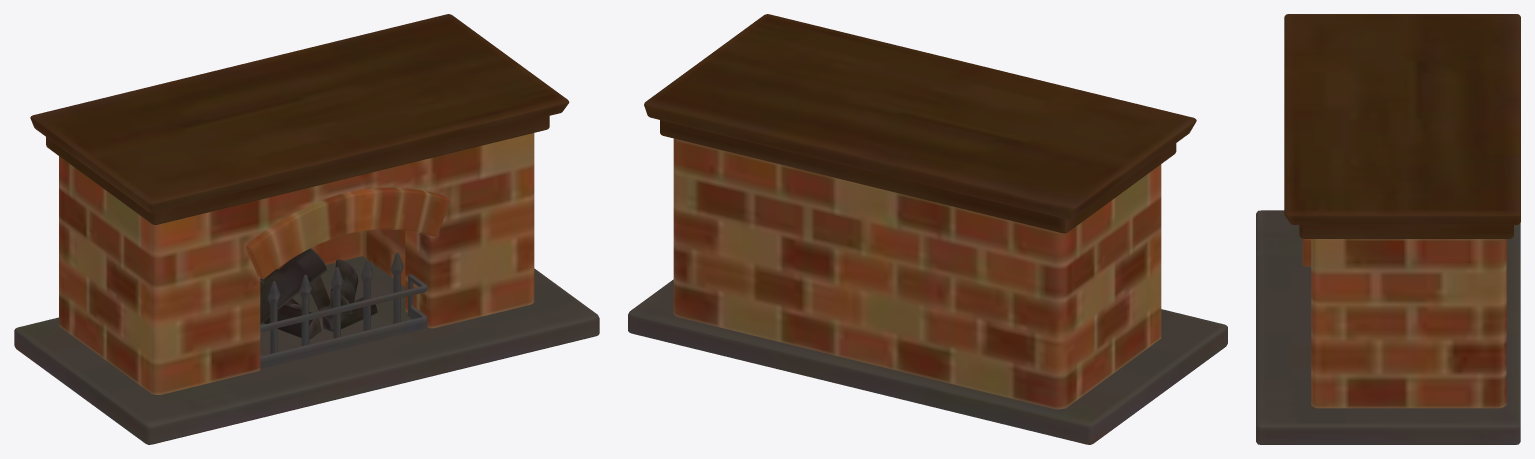
3 renders of one model, left to right at view 1: azimuth 30°, elevation 25°; view 2: azimuth 150°, elevation 25°; view 3: azimuth 270°, elevation 25°, orthographic. The views are drawn at different scales.
Size of the model in its own units: 19.28 by 9.34 by 9.96.
Materials: 1 (1 with a texture image).
